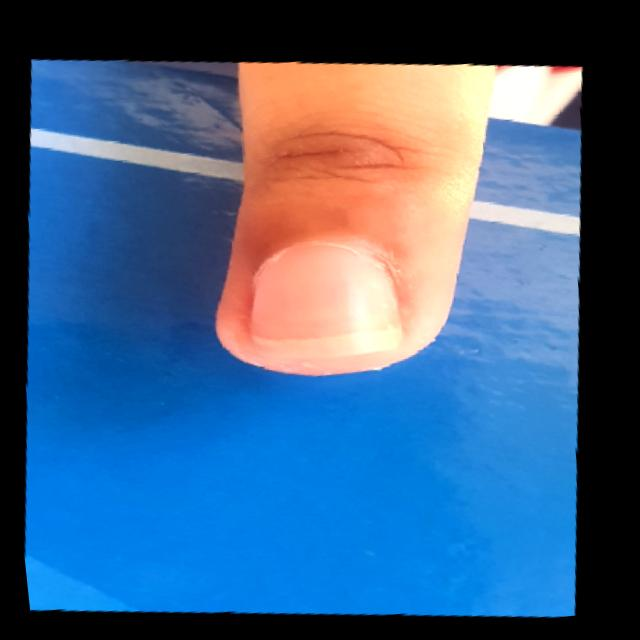Nail: (248, 245, 402, 357)
